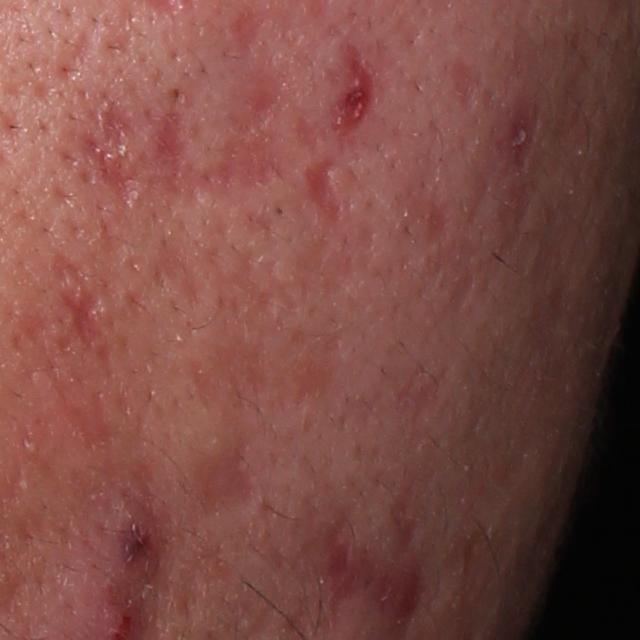atrophic_scar: (86, 61, 299, 211), (320, 519, 430, 639), (190, 434, 272, 527), (319, 39, 382, 157), (209, 240, 279, 338), (59, 288, 121, 379), (294, 220, 358, 301), (156, 239, 207, 309), (300, 158, 344, 220), (450, 52, 488, 116), (225, 2, 269, 54), (418, 189, 452, 251)
